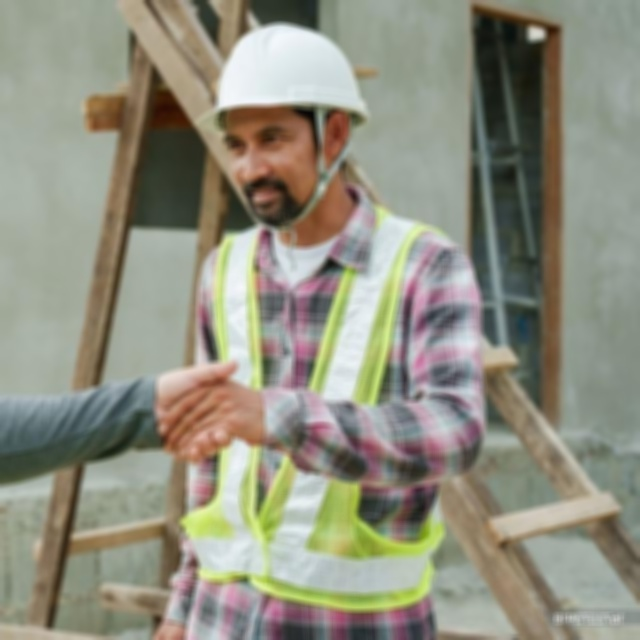Con_Casco: (194, 24, 367, 224)
Con_Chaleco: (179, 214, 456, 598)
